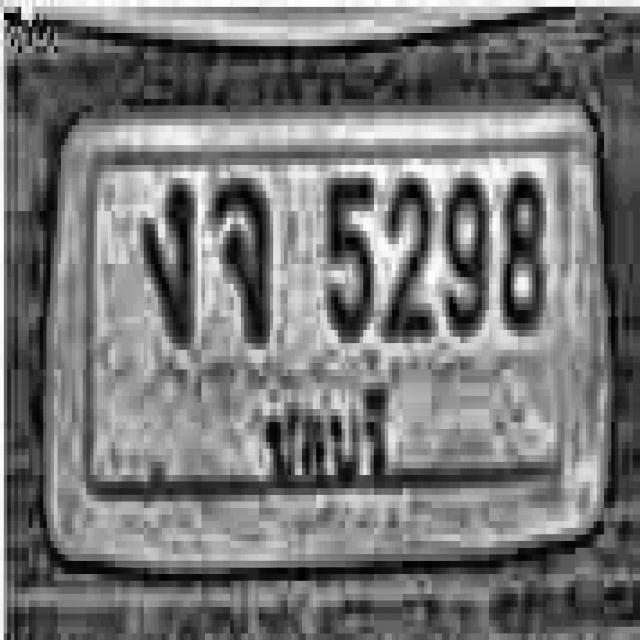license-plate: (40, 100, 622, 566)
